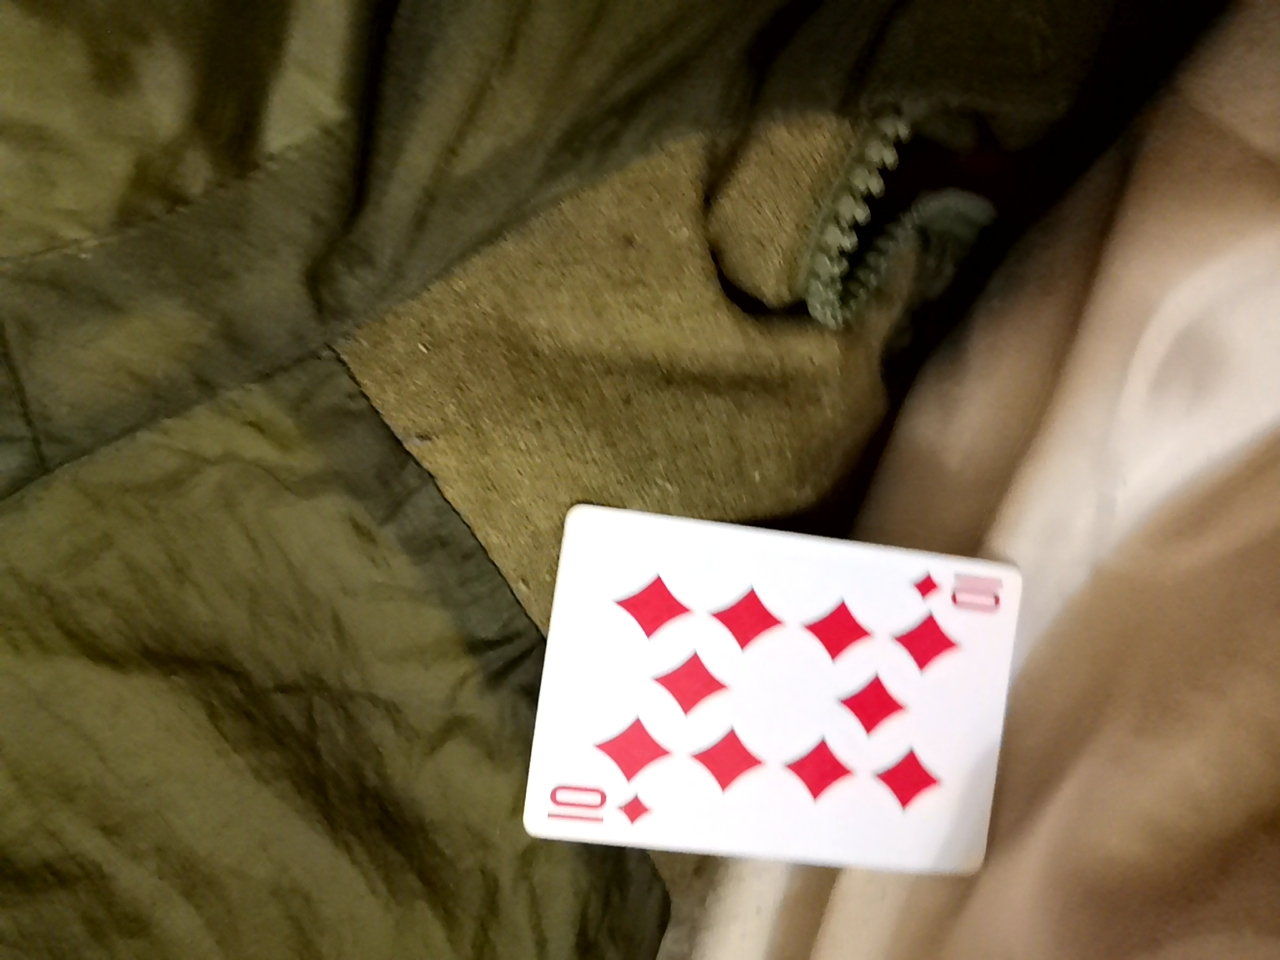fk 10: (514, 482, 1028, 820)
